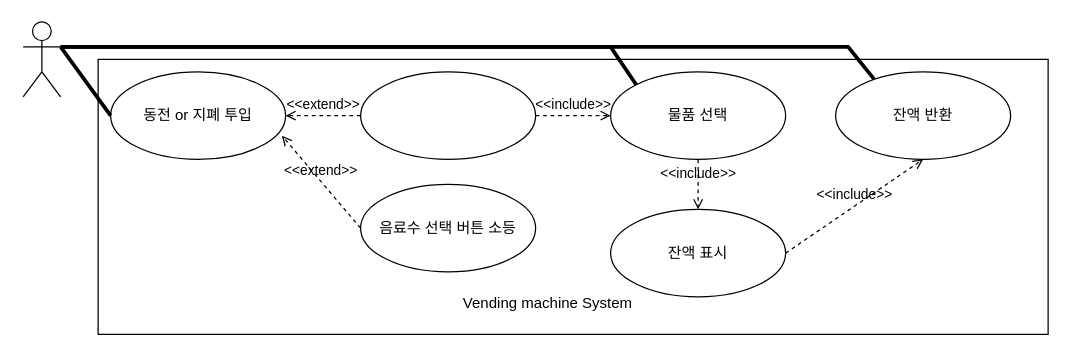
Some shapes in this 1070 by 356 pixel diagram are drawn without their labels. Each missing label, with the centre of its shape:
"사용자" belongs at point 41,59.
"음료수 선택 버튼 점등" belongs at point 447,115.
